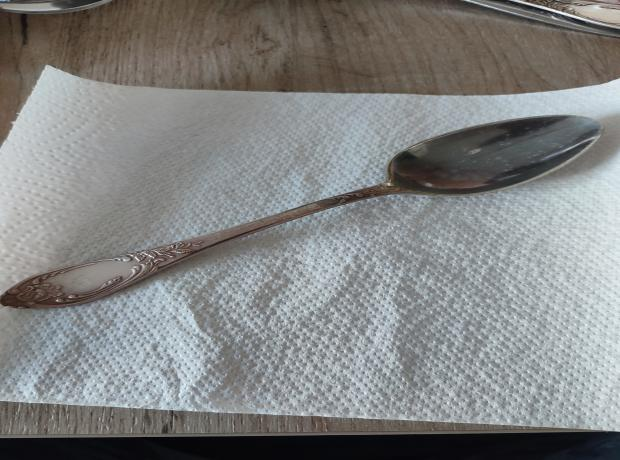metal: (1, 114, 606, 310)
